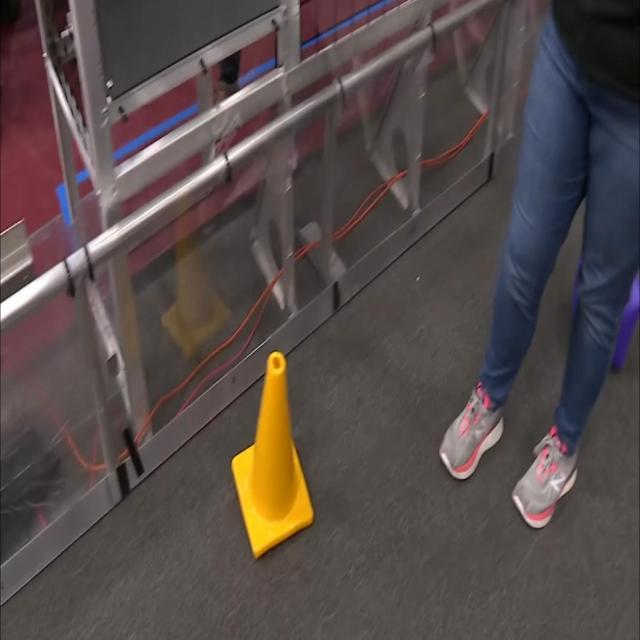frc_cone: (230, 340, 314, 567)
frc_cube: (614, 268, 640, 369)
